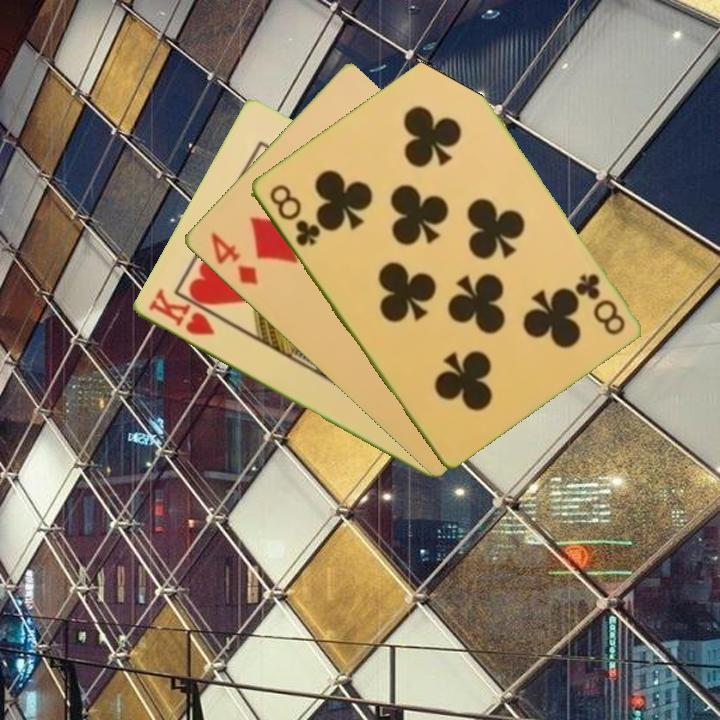4d: (206, 228, 261, 288)
8c: (265, 180, 323, 250), (571, 269, 628, 338)
Kh: (144, 285, 217, 339)
